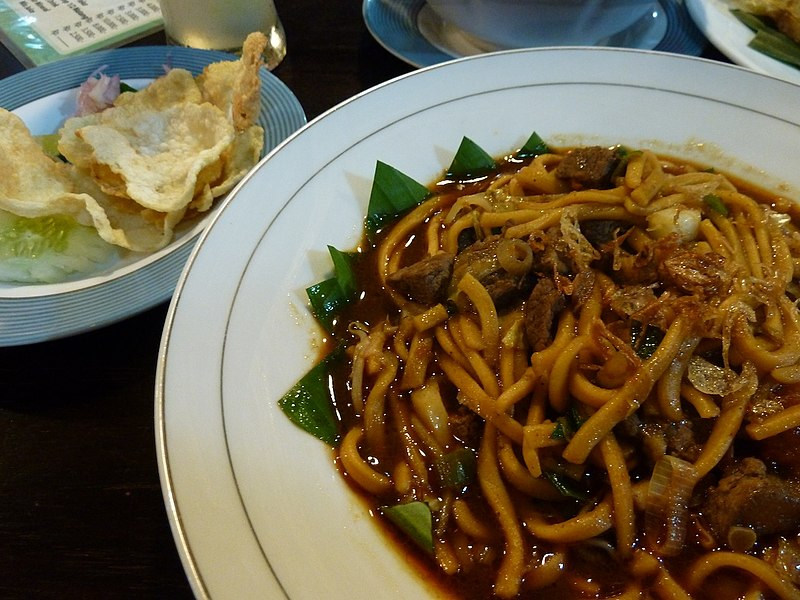Mie: (313, 137, 794, 589)
